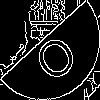O: (25, 25, 81, 85)
